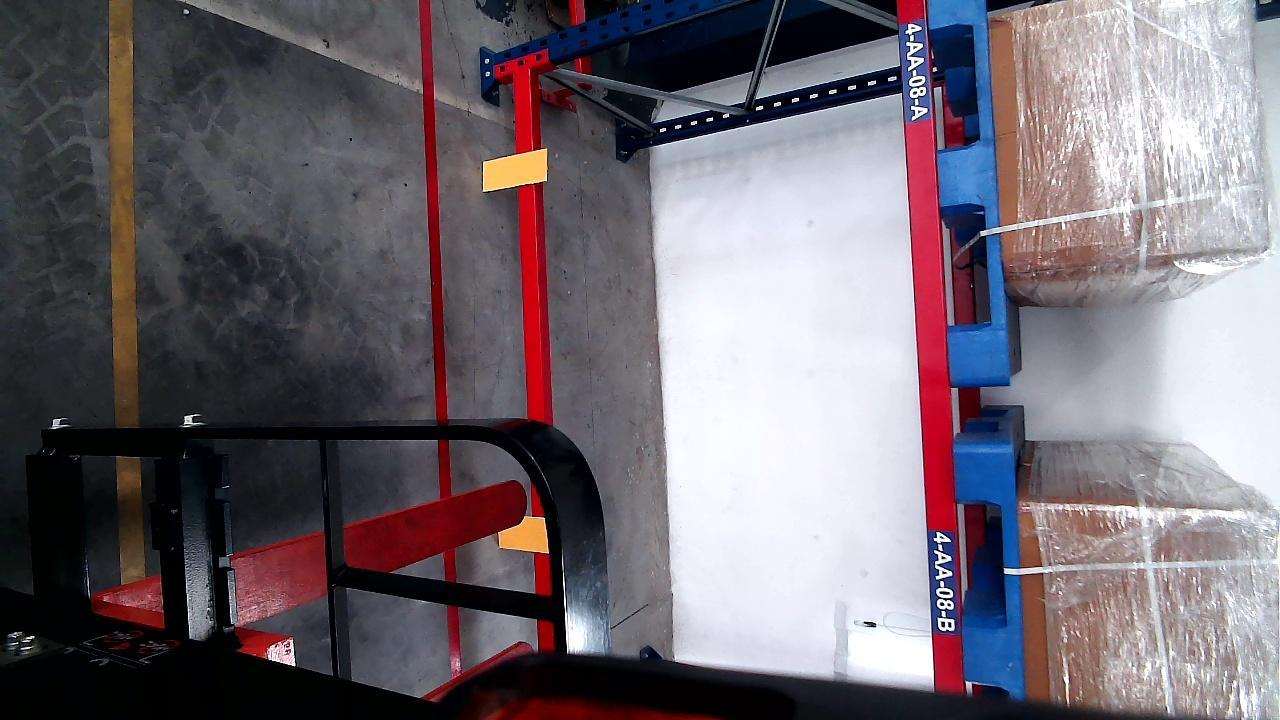red_line: (417, 1, 464, 677)
yellow_line: (109, 0, 145, 583)
